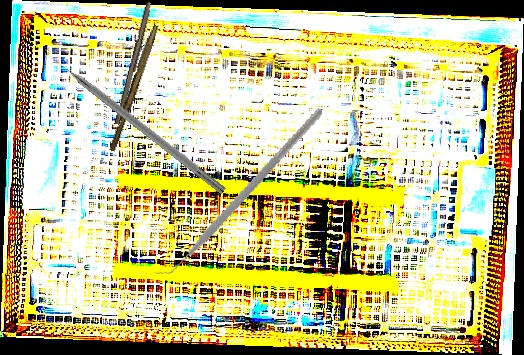Chopper: (152, 83, 323, 299)
Hook Surgical: (47, 50, 229, 195)
Scalpel Handle: (108, 23, 159, 153), (114, 1, 154, 126)
